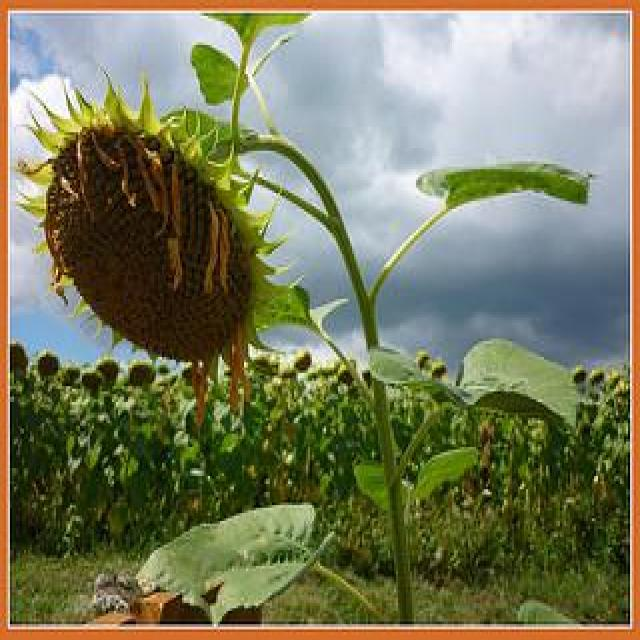sunflower: (8, 70, 298, 420)
